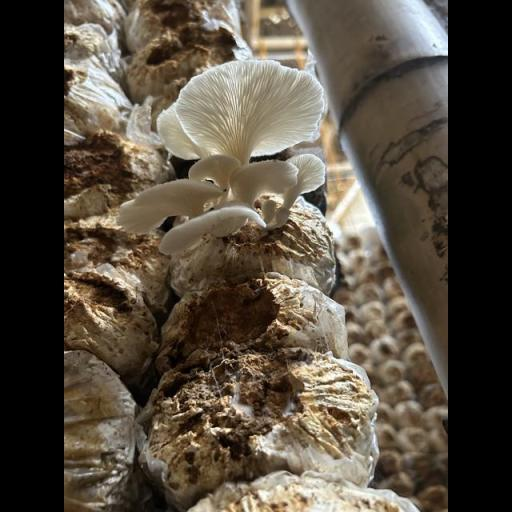White Oyster Mushroom: (120, 52, 338, 270)
